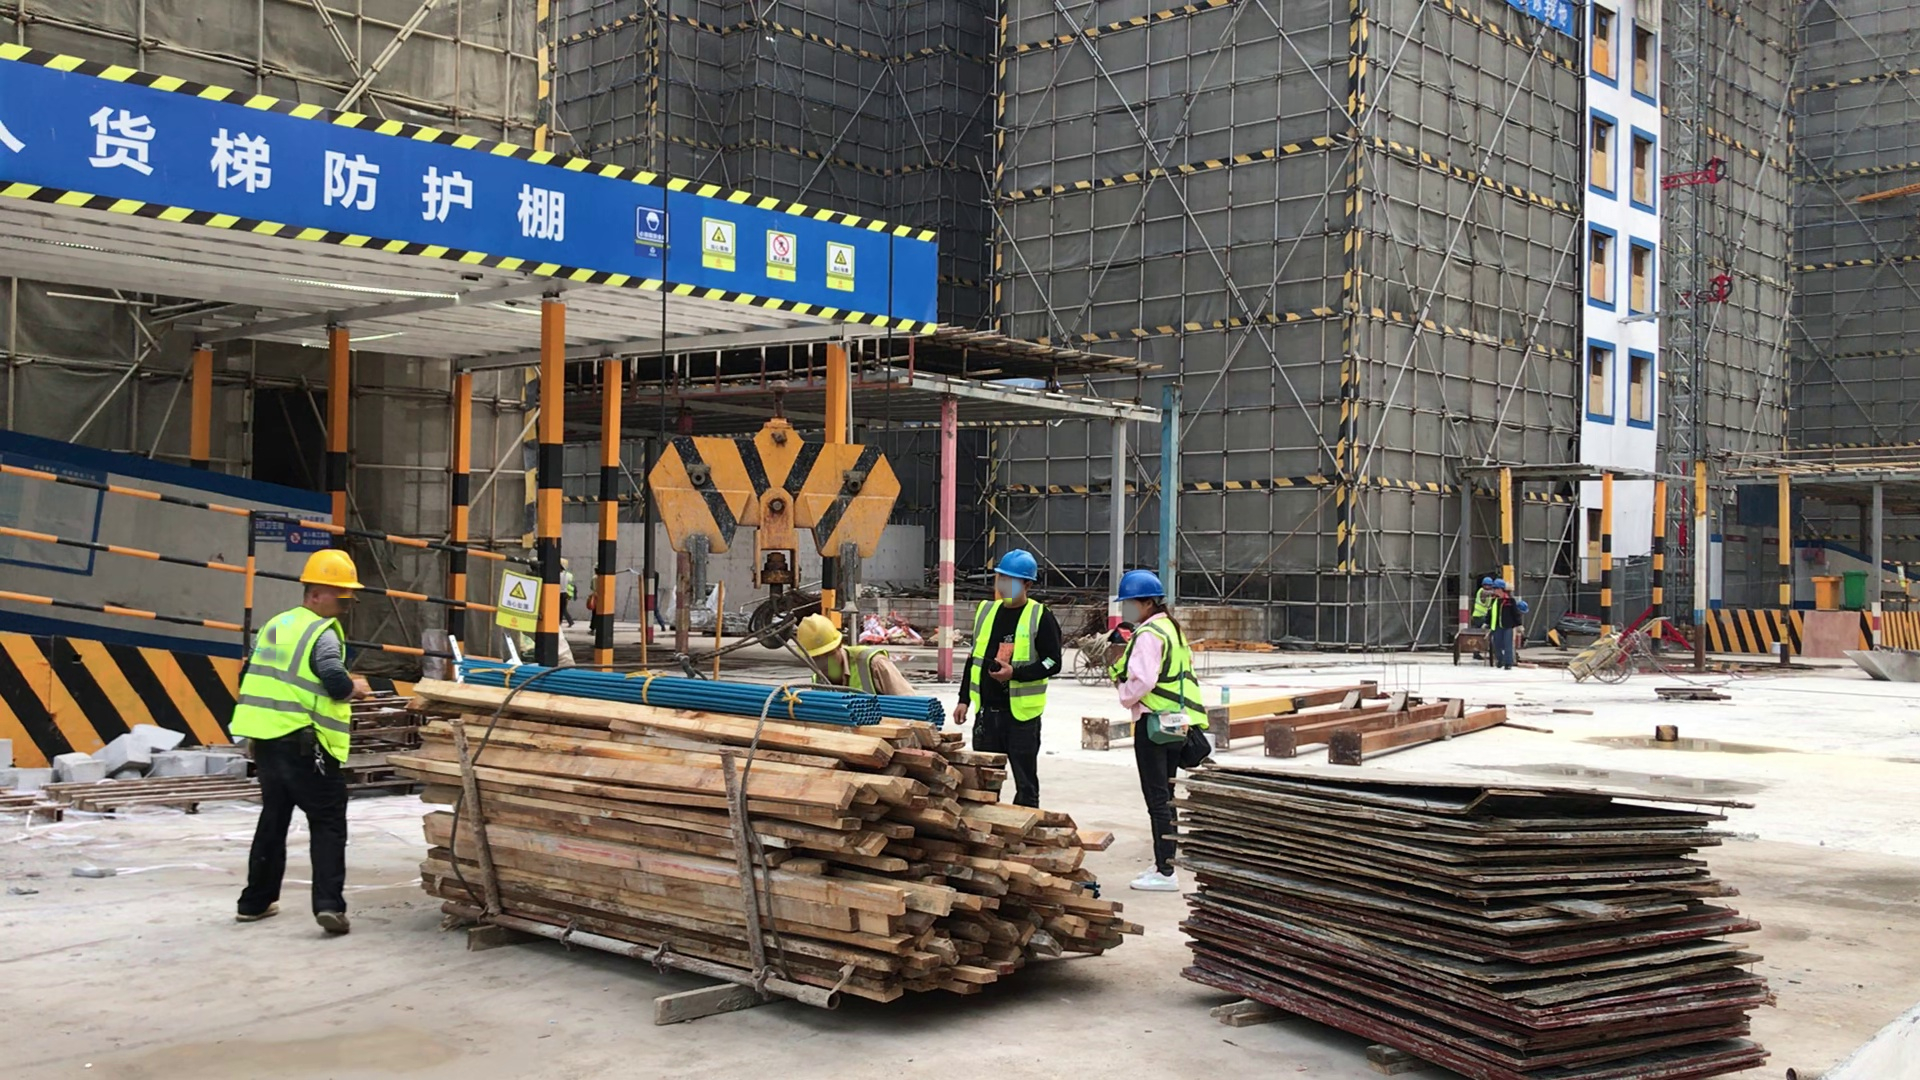board: (1159, 737, 1752, 1080)
handcart: (1556, 622, 1662, 689)
helmet: (300, 541, 362, 590), (796, 614, 844, 653), (995, 548, 1040, 583), (1117, 572, 1168, 598), (1517, 601, 1530, 613), (561, 557, 571, 569), (1503, 581, 1514, 592), (1493, 580, 1505, 590), (1481, 577, 1493, 586), (594, 562, 599, 568)
hook: (648, 426, 904, 565)
hopper: (1847, 642, 1920, 692)
person: (215, 541, 395, 950), (1100, 565, 1221, 891), (954, 542, 1069, 811), (782, 615, 921, 694), (1493, 579, 1523, 672), (558, 557, 578, 626), (1469, 577, 1494, 628), (585, 560, 598, 636)
vest: (230, 607, 353, 762), (1112, 612, 1207, 729), (968, 595, 1047, 722), (816, 653, 895, 692), (1474, 588, 1491, 619), (567, 584, 578, 600)
wood: (422, 595, 1123, 1016)
